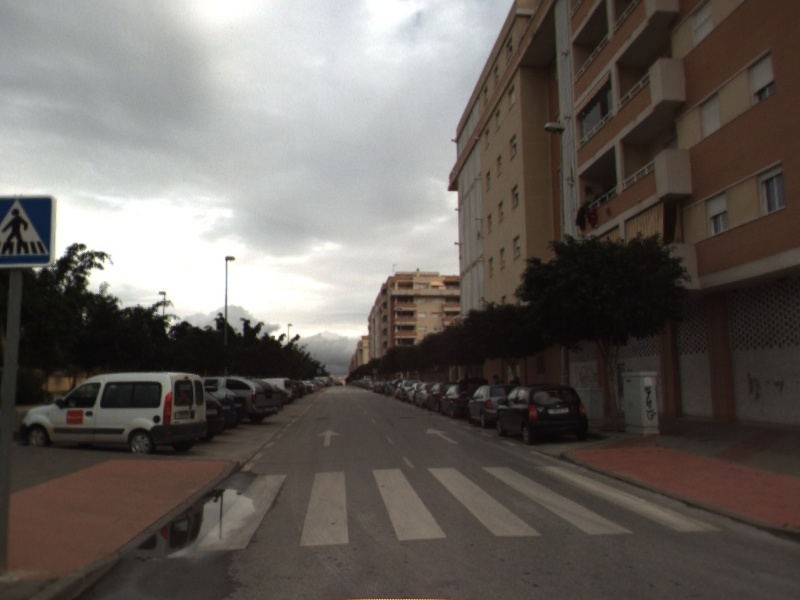STRAIGHT: (423, 426, 460, 446), (315, 427, 343, 448)
